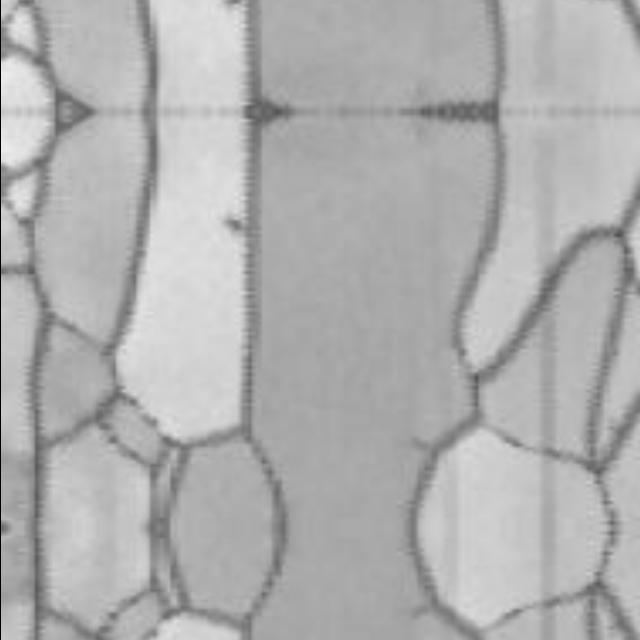good_void: (223, 210, 246, 234), (223, 0, 242, 12)
